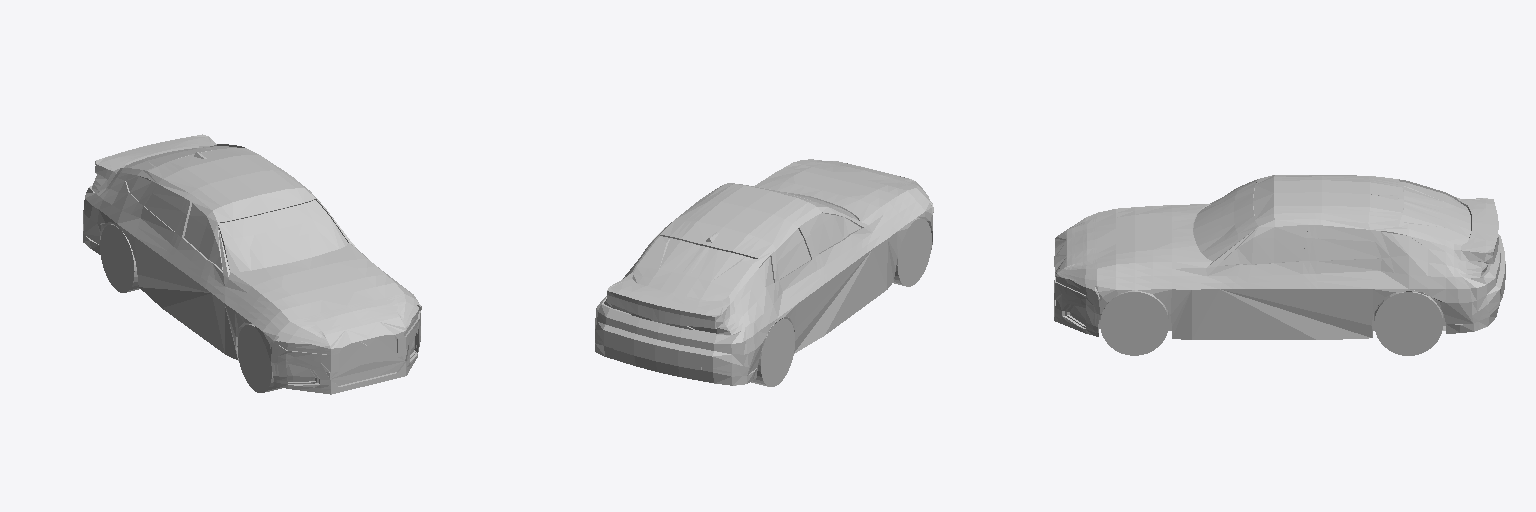
Rendered from car.obj.
3 views of the same model, side by side, from view 1: azimuth 30°, elevation 25°; view 2: azimuth 150°, elevation 25°; view 3: azimuth 270°, elevation 25° (orthographic).
Parts seen in each view (by area): view 1: Cubo, Círculo.001, Círculo.002; view 2: Cubo, Círculo.001, Círculo.002; view 3: Cubo, Círculo.001, Círculo.002.
Boxes of the visible parts, x1,y1,x2,y2 form: Cubo: [83, 134, 421, 394]; Círculo.001: [100, 224, 139, 292]; Círculo.002: [237, 324, 281, 392]; Cubo: [595, 159, 933, 385]; Círculo.001: [751, 318, 794, 386]; Círculo.002: [893, 218, 931, 286]; Cubo: [1054, 175, 1505, 339]; Círculo.001: [1374, 292, 1442, 355]; Círculo.002: [1100, 290, 1168, 355].
Bounding box in the file's own units: 1.84 × 1.46 × 4.69.